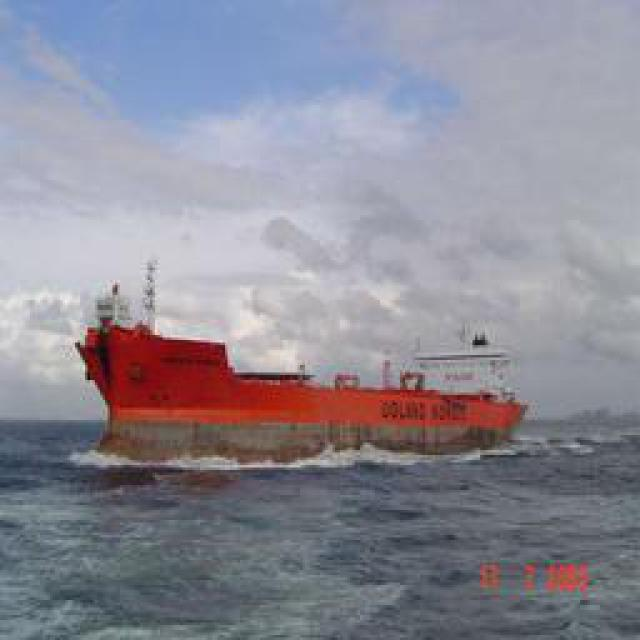Ship: (74, 302, 524, 462)
